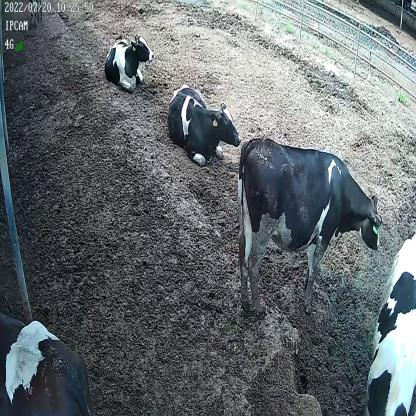cow: (234, 137, 382, 317), (165, 82, 242, 166), (101, 27, 156, 92)
